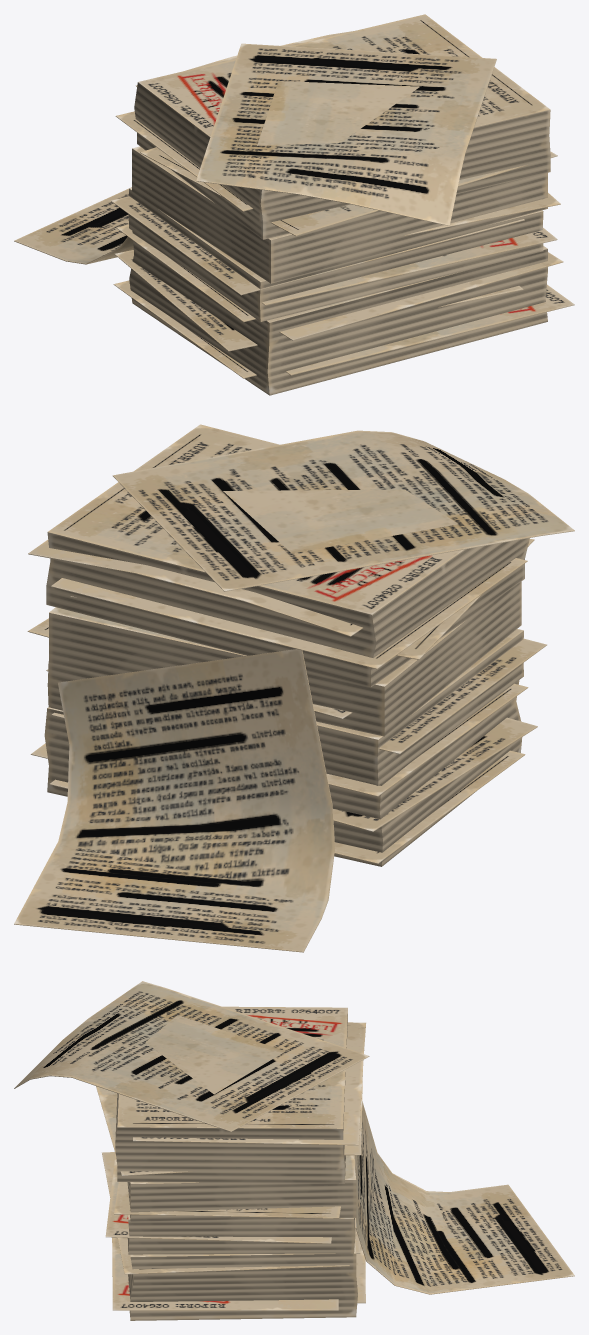
Rendered from paper01_F.fbx.
3 renders of one model, top to bottom at view 1: azimuth 30°, elevation 25°; view 2: azimuth 150°, elevation 25°; view 3: azimuth 270°, elevation 25°, orthographic. The views are drawn at different scales.
Parts seen in each view (by area): view 1: paper01_F; view 2: paper01_F; view 3: paper01_F.
Boxes of the visible parts, x1,y1,x2,y2 form: paper01_F: (14, 14, 574, 395); paper01_F: (14, 424, 574, 952); paper01_F: (14, 981, 574, 1320).
Size of the model in its own units: 35.57 by 20.81 by 54.4.
